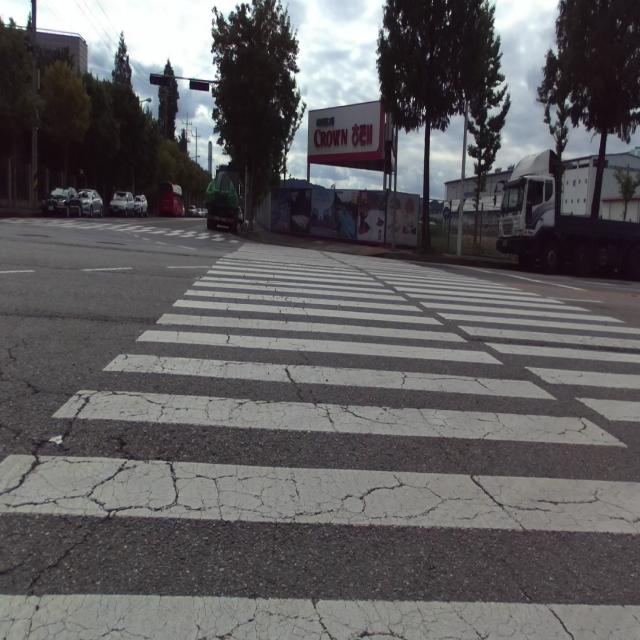횡단보도: (0, 243, 639, 640), (42, 213, 224, 239)
